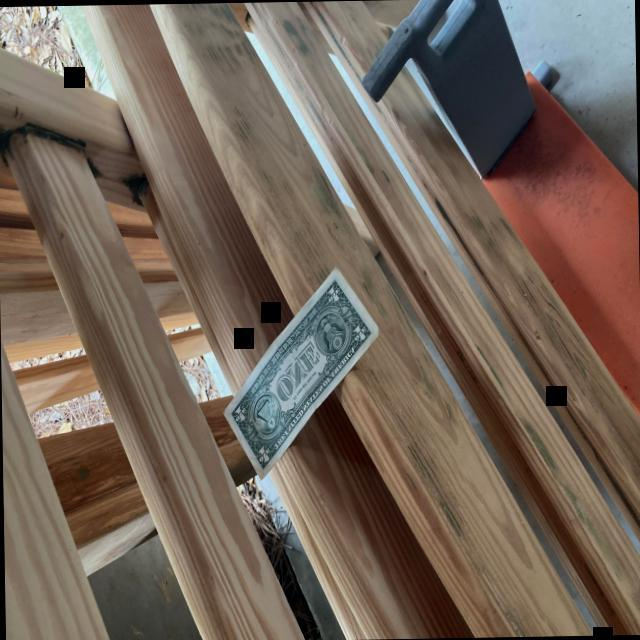one: (223, 265, 382, 481)
